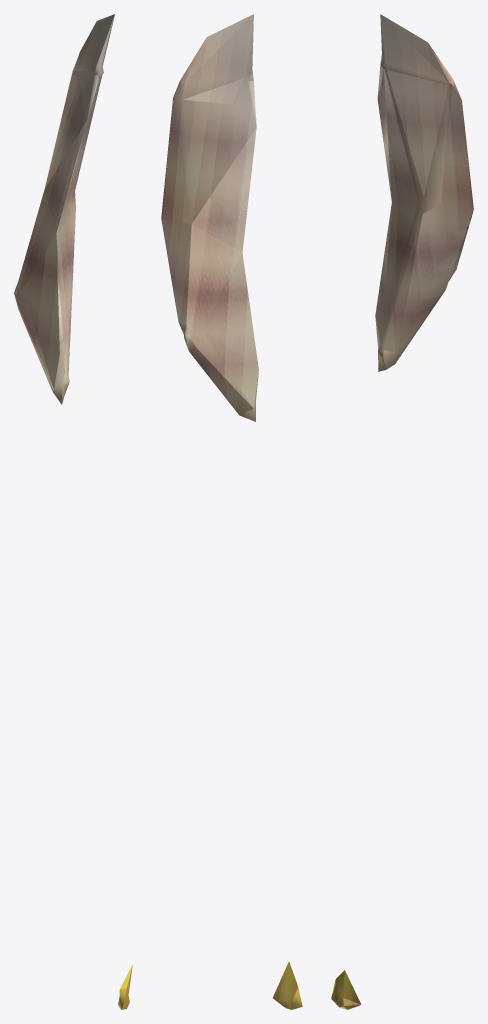
3 renders of one model, left to right at view 1: azimuth 90°, elevation 25°; view 2: azimuth 150°, elevation 25°; view 3: azimuth 330°, elevation 25°, orthographic.
Visible parts, largest first — view 1: world; view 2: world; view 3: world.
Boxes of the visible parts, left/top/right/bottom form: world: left=14, top=14, right=132, bottom=1009; world: left=161, top=14, right=302, bottom=1009; world: left=331, top=14, right=473, bottom=1009.
Bounding box in the file's own units: 0.0153 × 0.1327 × 0.0146.
1 material, 1 textured.
